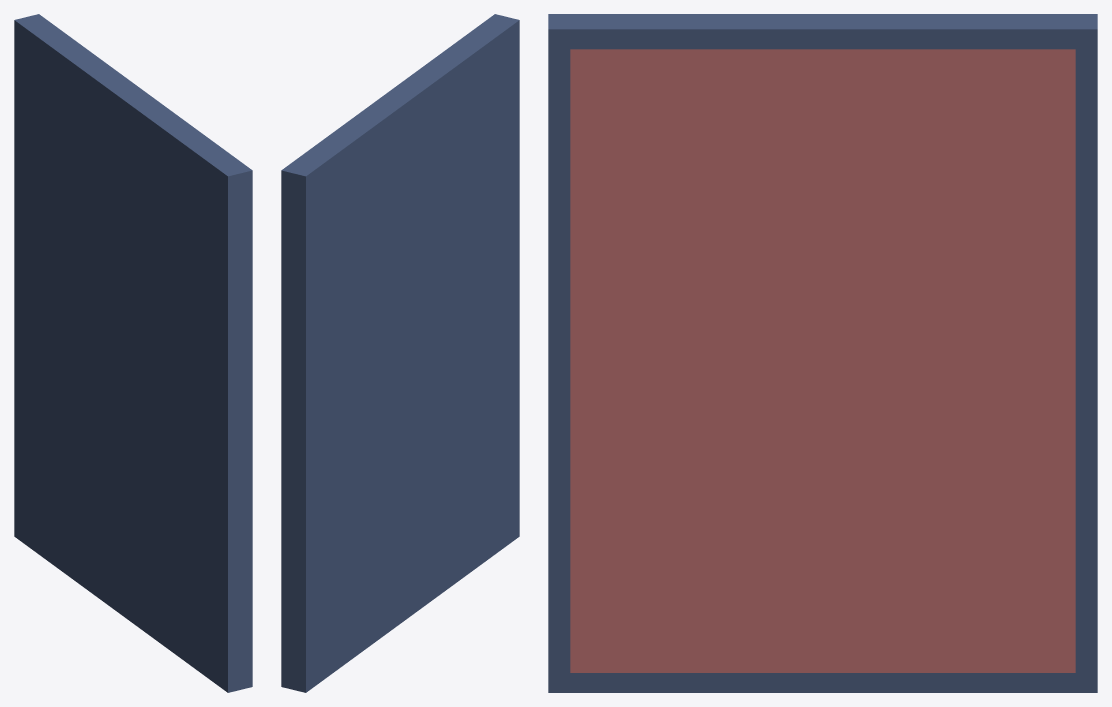
The model's file is step_02.glb.
3 views of the same model, side by side, from view 1: azimuth 30°, elevation 25°; view 2: azimuth 150°, elevation 25°; view 3: azimuth 270°, elevation 25° (orthographic). The views are drawn at different scales.
Visible parts, largest first — view 1: part__solar panel 20 W; view 2: part__solar panel 20 W; view 3: removed__solar panel 20 W, part__solar panel 20 W.
Part boxes in pixels (x1,y1,x2,y2): part__solar panel 20 W: [14, 14, 252, 692]; part__solar panel 20 W: [281, 14, 519, 692]; removed__solar panel 20 W: [570, 49, 1075, 672]; part__solar panel 20 W: [548, 14, 1097, 692].
Size of the model in its own units: 20 by 400 by 300.
